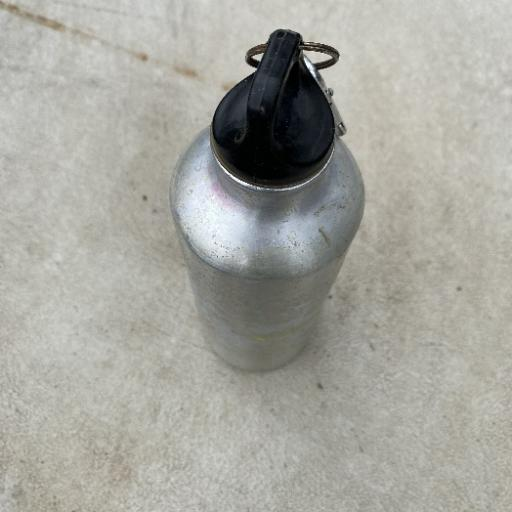Metal: (165, 26, 368, 374)
